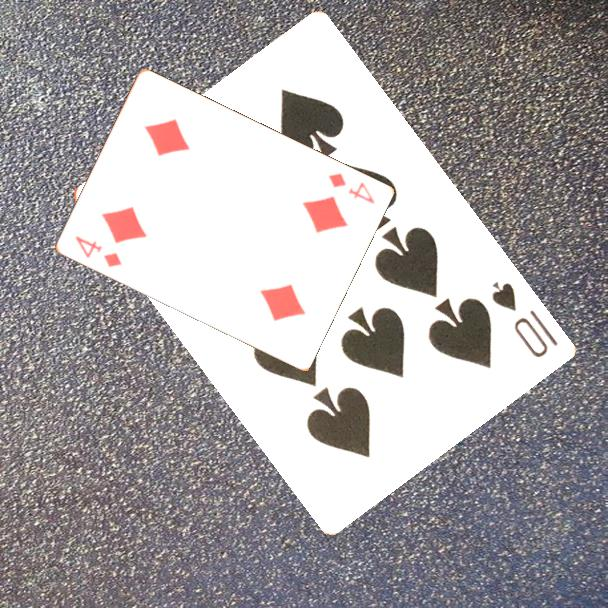d04: (71, 232, 124, 270), (324, 169, 377, 207)
s10: (487, 277, 561, 361)
